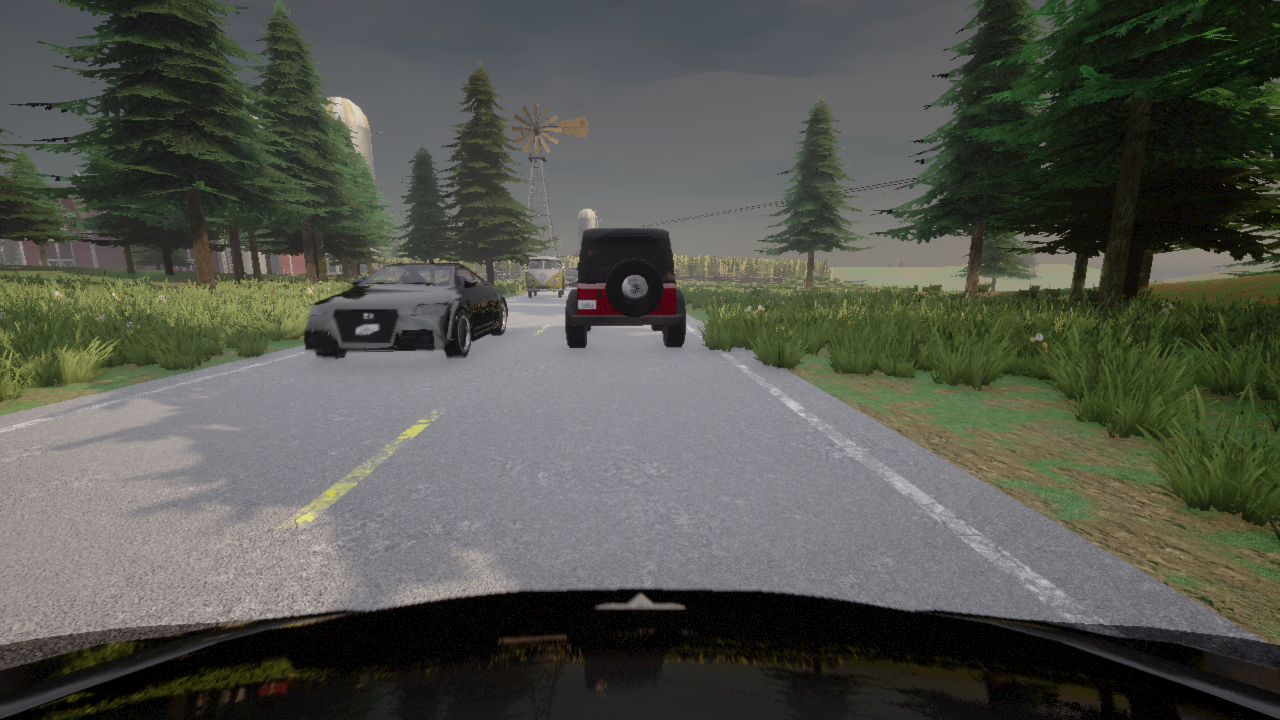cyclist: (0, 588, 1279, 719), (304, 263, 507, 358), (565, 228, 685, 347), (523, 256, 565, 297), (565, 268, 577, 286), (494, 268, 508, 278), (373, 270, 377, 272)
